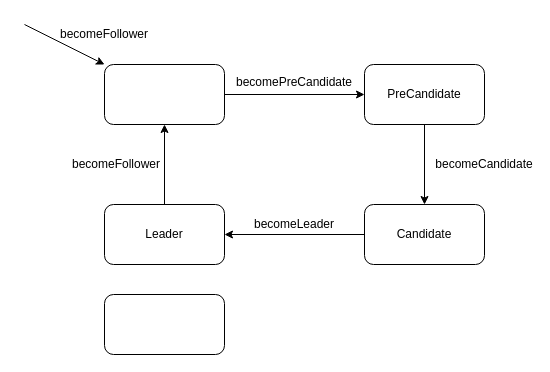
Image size: 550x372. Some labels were removed from this diagram. Each missing label, with the centre of its shape:
Follower: point (164, 94)
Learner: point (164, 324)
